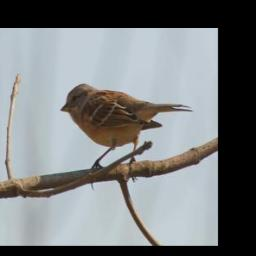Sparrow: (59, 82, 195, 190)
